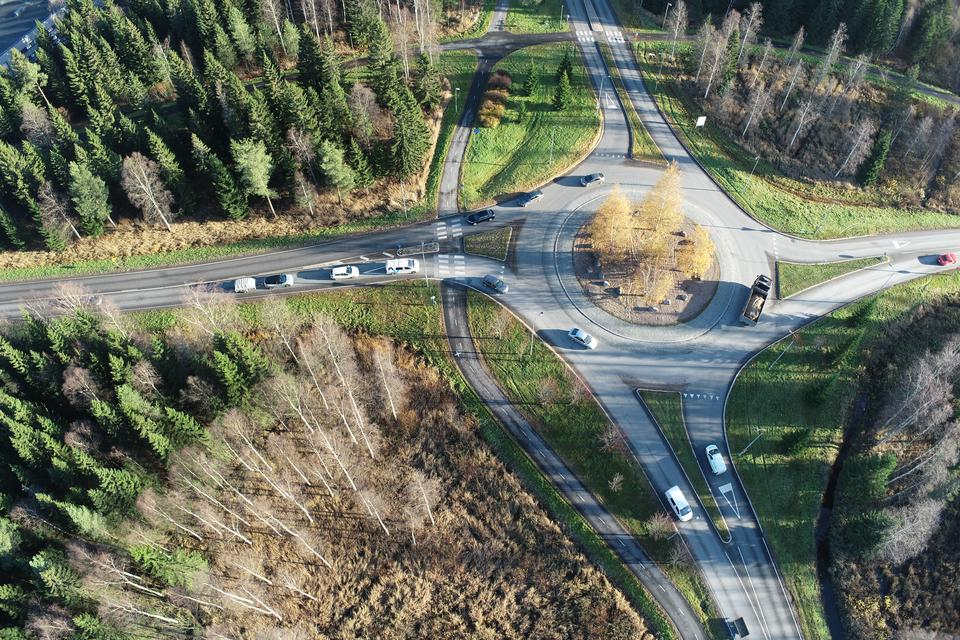intersection: (421, 192, 489, 315), (556, 16, 651, 52)
roundabout: (505, 92, 872, 446)
